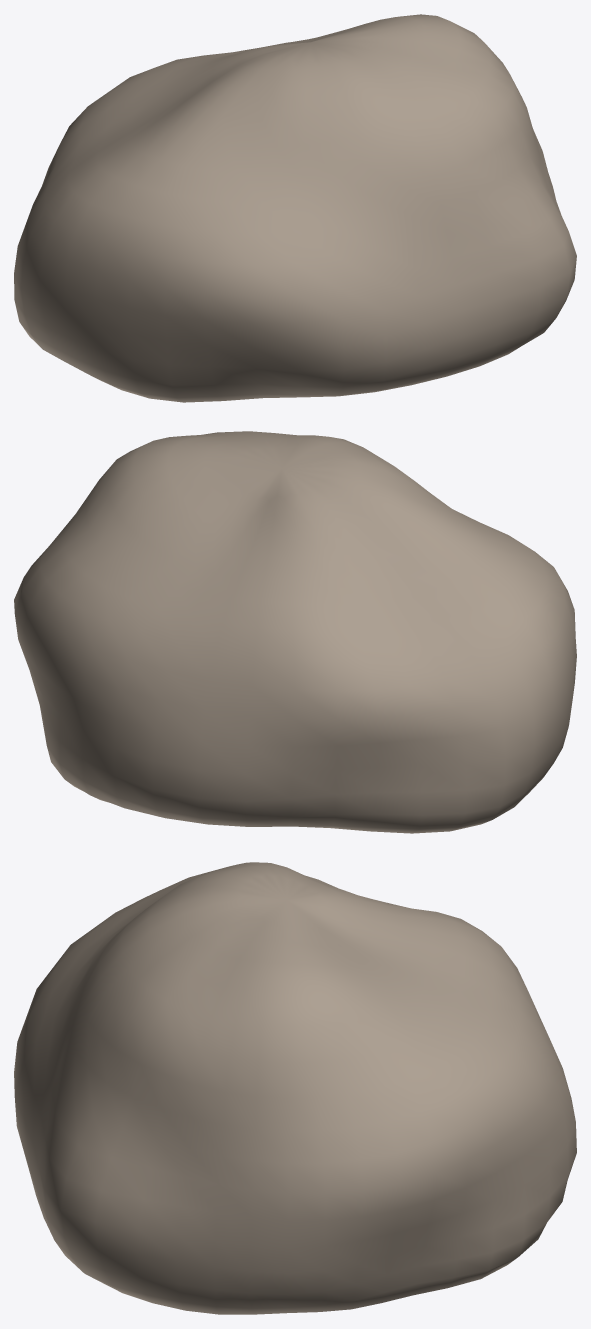
File: rock.glb
The picture shows the model from 3 angles, top to bottom: view 1: azimuth 30°, elevation 25°; view 2: azimuth 150°, elevation 25°; view 3: azimuth 270°, elevation 25°; orthographic projection. The views are drawn at different scales.
Parts seen in each view (by area): view 1: RockMesh; view 2: RockMesh; view 3: RockMesh.
Boxes of the visible parts, x1=… form: RockMesh: x1=14, y1=14, x2=576, y2=402; RockMesh: x1=14, y1=431, x2=576, y2=833; RockMesh: x1=14, y1=862, x2=576, y2=1314.
Size of the model in its own units: 1.33 by 0.7083 by 1.14.
